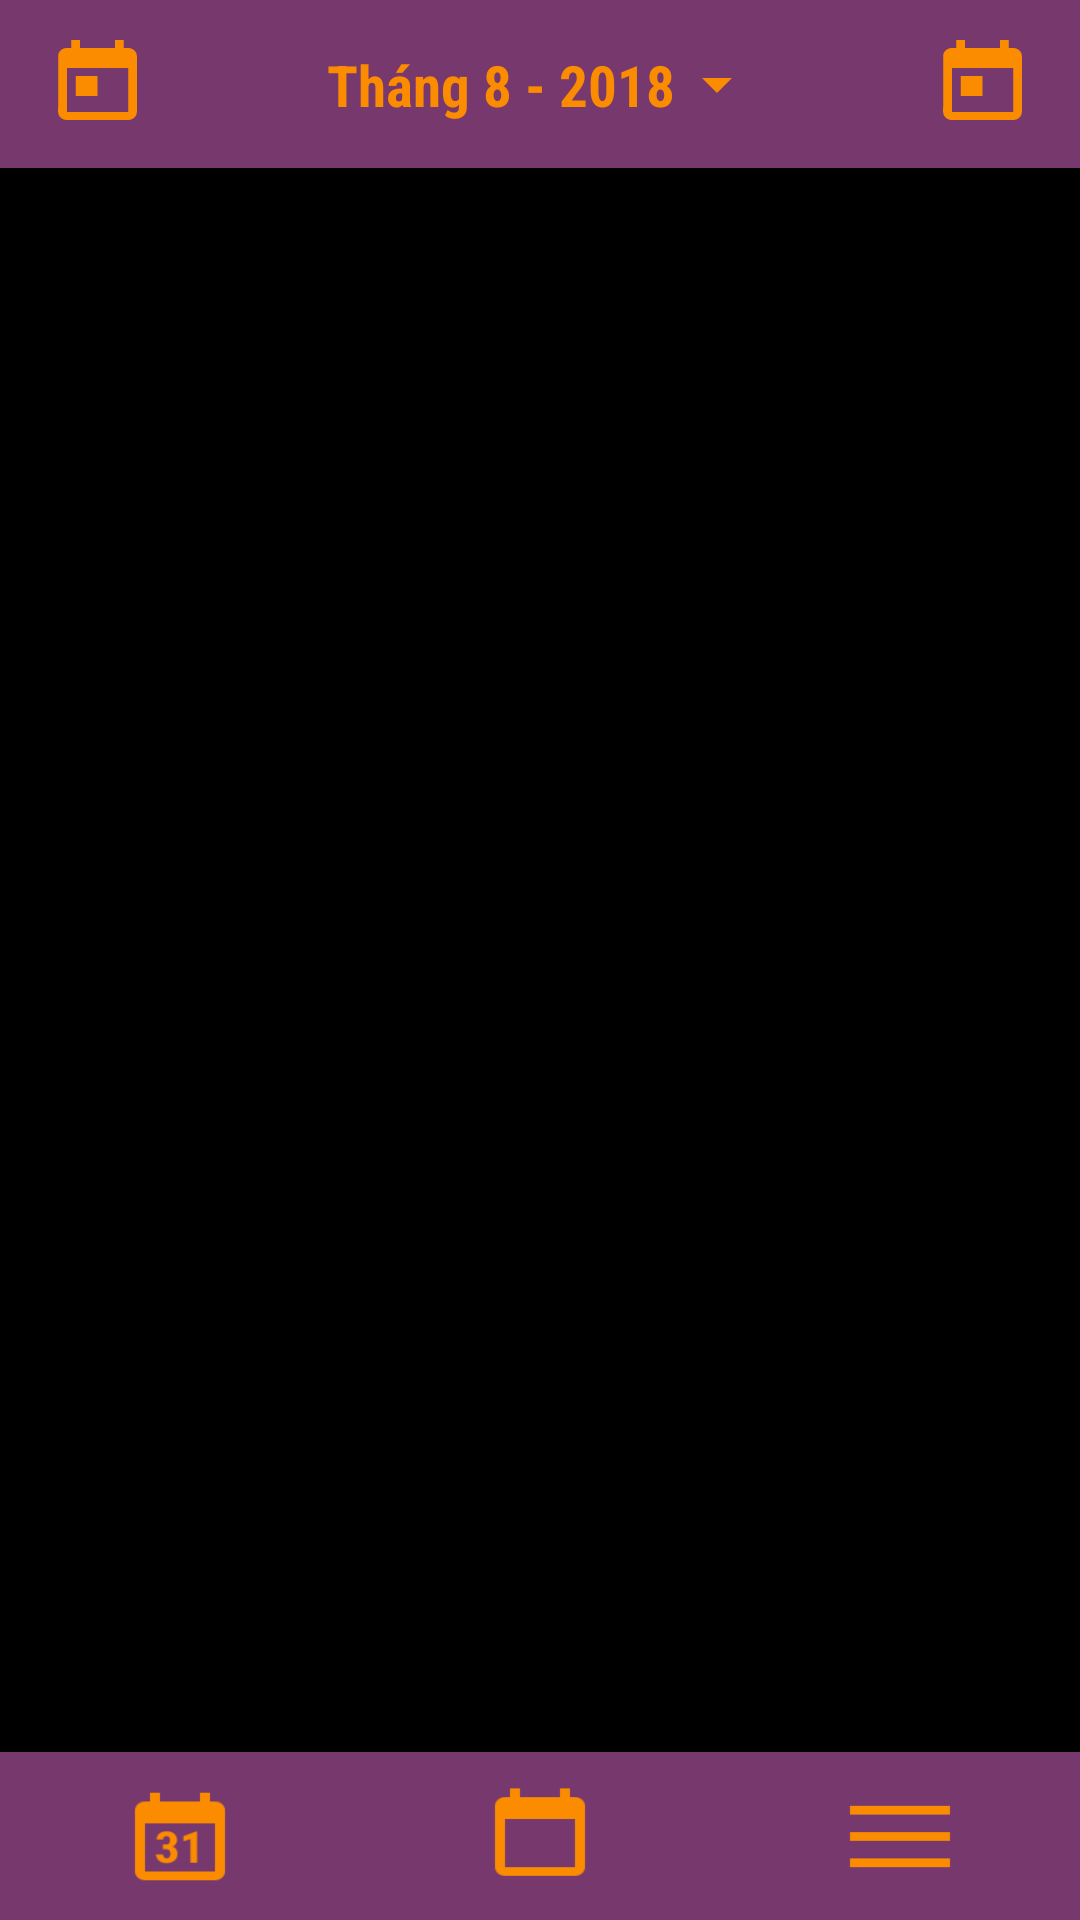

Named icons in this screenshot (1080x1920) and their centers, [x,y]:
dayview: [180,1836]
monthview: [540,1832]
more: [900,1836]
today: [97,80], [982,80]
